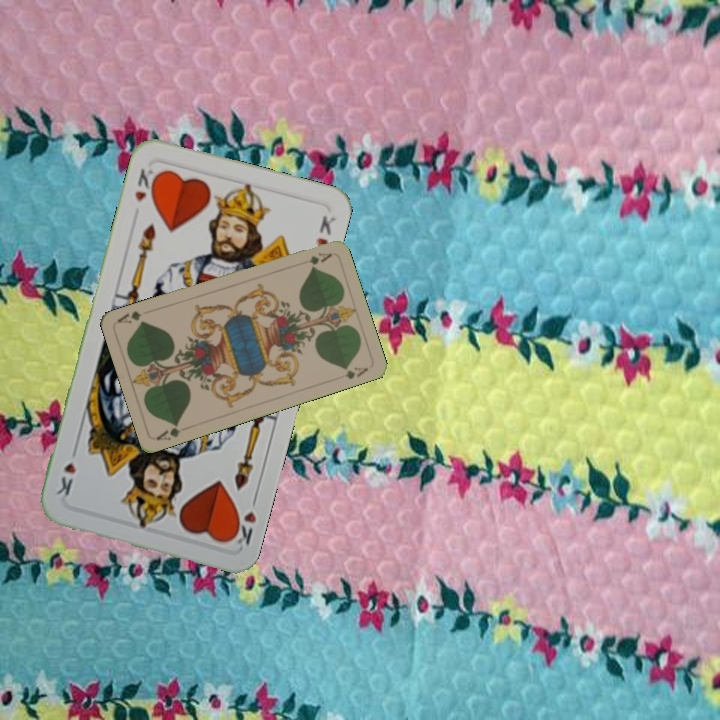GA: (153, 419, 183, 443), (305, 248, 334, 267)
HK: (226, 491, 260, 548), (130, 164, 162, 205)
